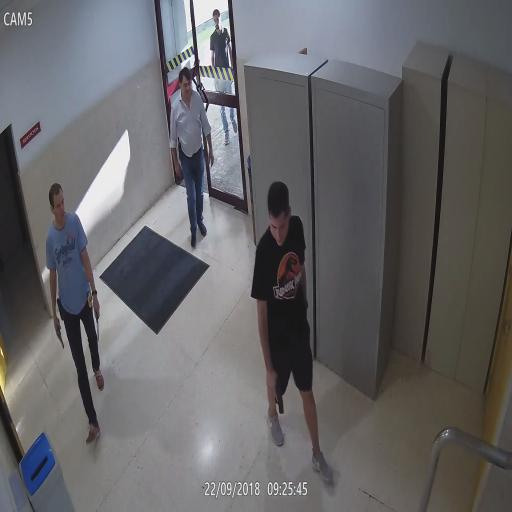Handgun: (265, 368, 286, 418), (53, 314, 65, 351), (176, 135, 183, 160)
